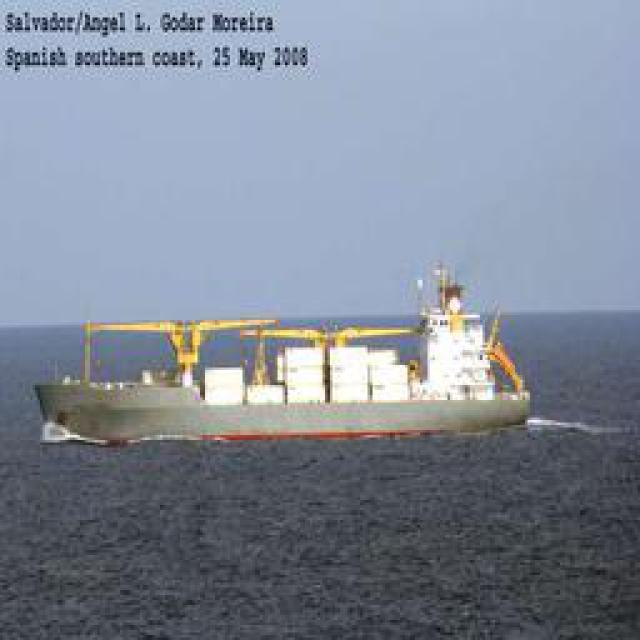Ship: (37, 282, 535, 452)
